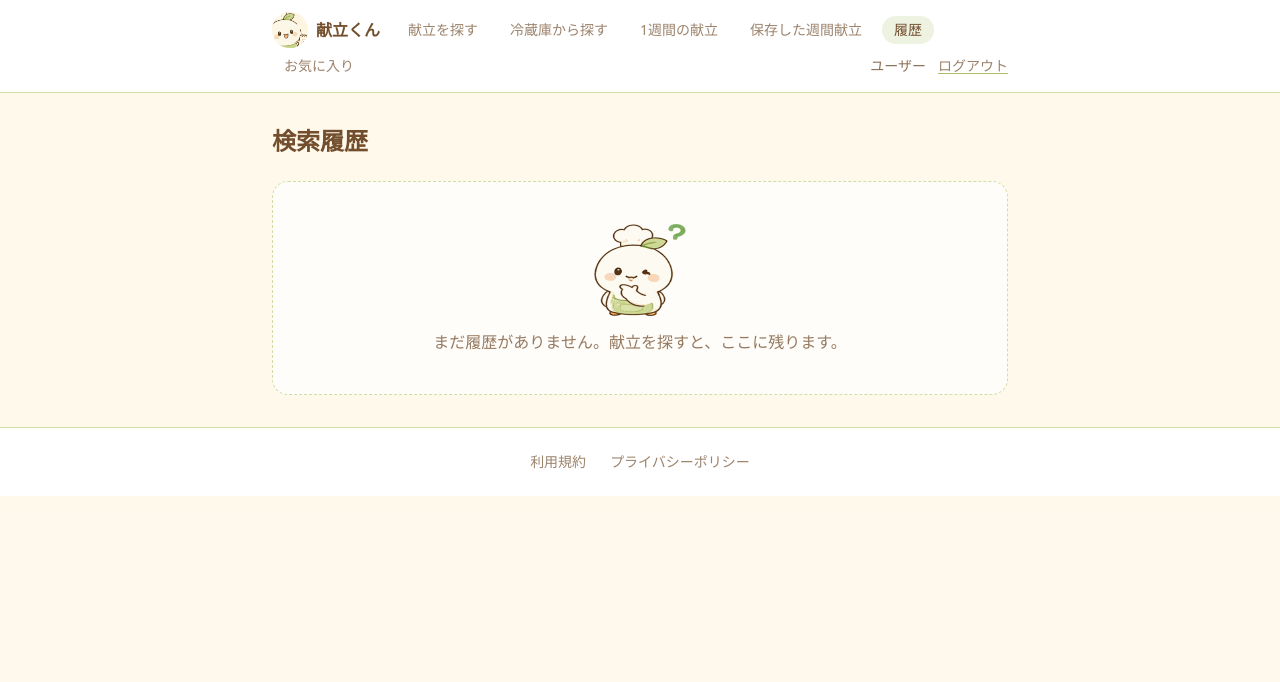
Test case: 検索と履歴のつながり › 検索した献立が、遷移するだけで履歴に出る
Check: the text "まだ履歴がありません。献立を探すと、ここに残ります。" is shown, box x1=433 y1=330 x2=847 y2=354
Note: 検索する（サーバ側で履歴に記録される）。
What coordinates should you click on to do the following:
click the link "献立を探す"
I would click on:
 (443, 30)
Its box is x1=408 y1=20 x2=478 y2=39.
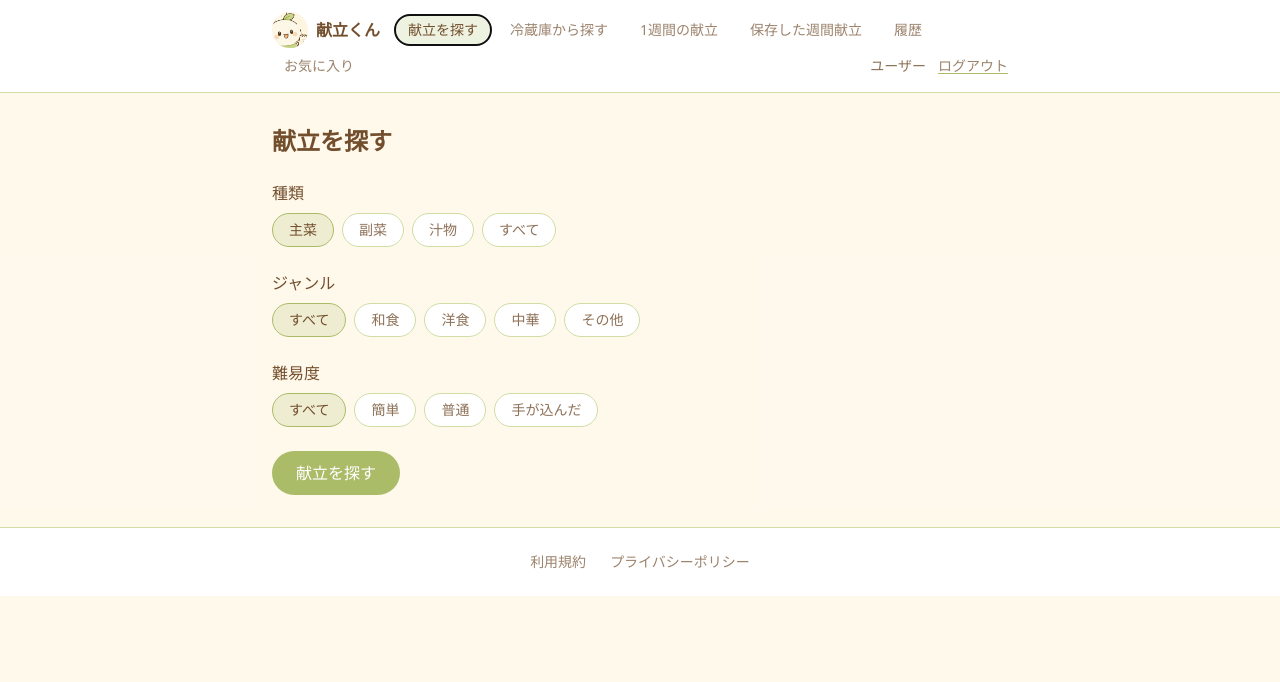
What coordinates should you click on to do the following:
click the button "献立を探す"
I would click on:
 (336, 473)
Its box is x1=272 y1=451 x2=400 y2=495.
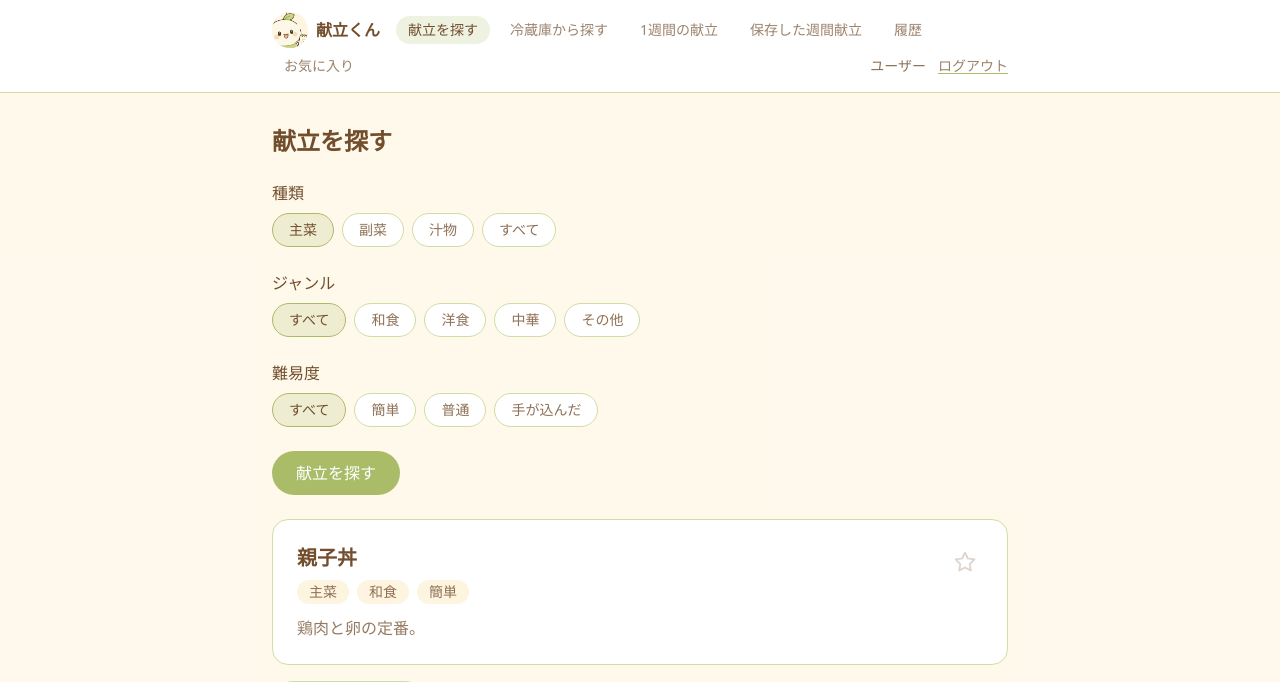
Check: the element showing "親子丼 主菜 和食 簡単 鶏肉と卵の定番。" is shown, box x1=272 y1=519 x2=1008 y2=665
Note: 履歴へ戻る。リロードせずに反映されていること。
What coordinates should you click on to do the following:
click the link "履歴"
I would click on:
 (908, 30)
Its box is x1=894 y1=20 x2=922 y2=39.
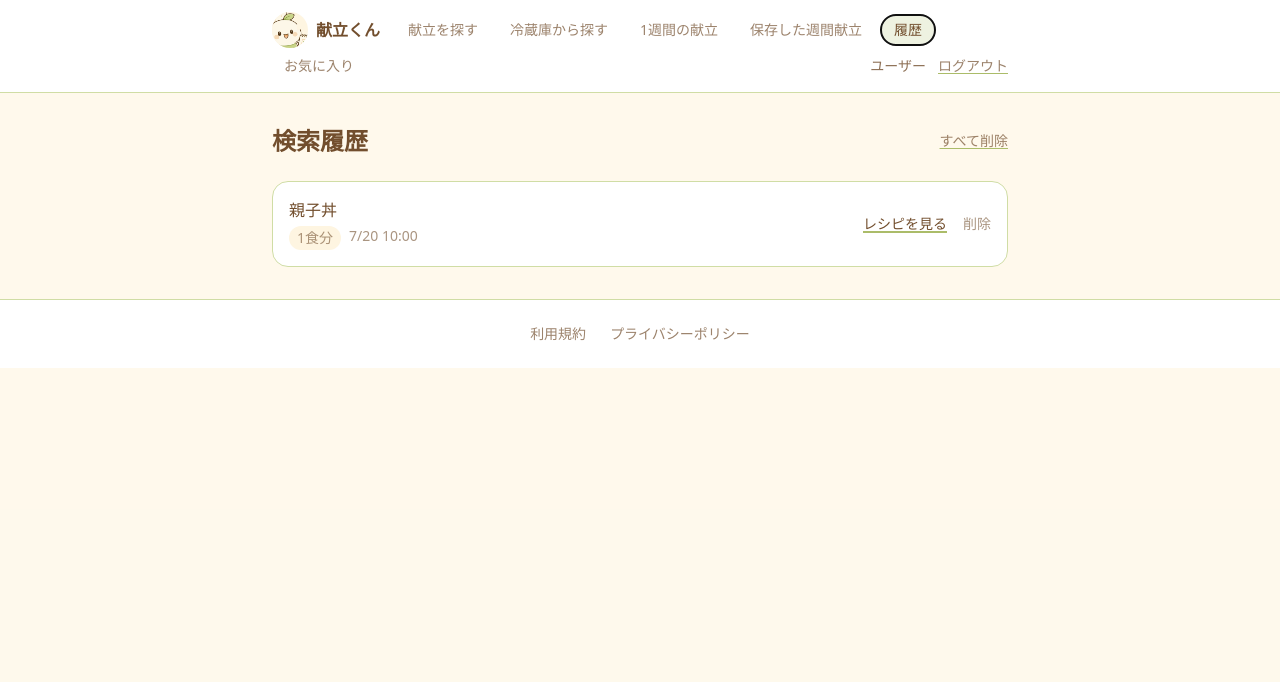
Check: the text "まだ履歴がありません" is not shown
Check: the list item shows "親子丼", box x1=289 y1=199 x2=337 y2=221
